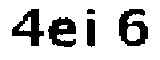4: (5, 5, 45, 50)
6: (114, 3, 151, 54)
e: (48, 11, 82, 55)
i: (81, 3, 103, 50)
